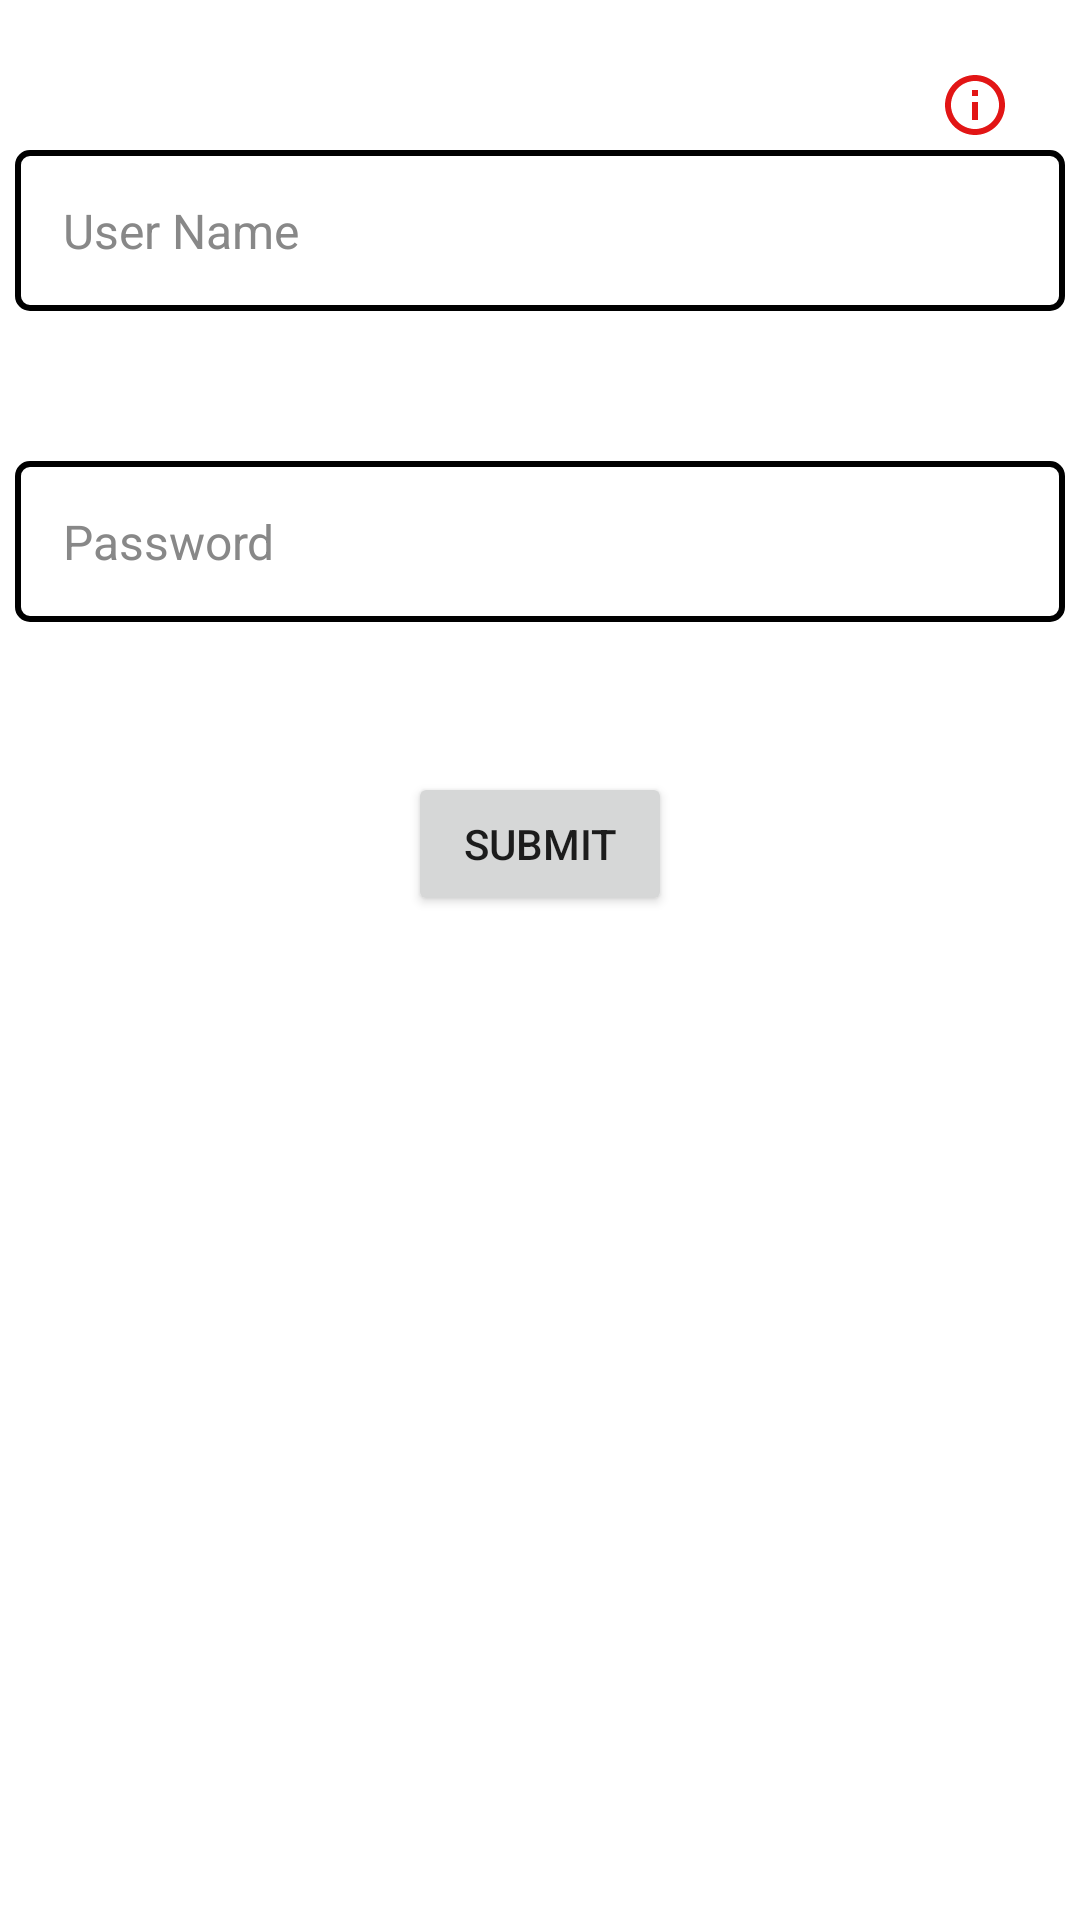

Locate icon controls on the screen. Image size 1080 x 1920, boxes as (x1, y1, x2, y2).
Info: (945, 75, 1005, 135)
